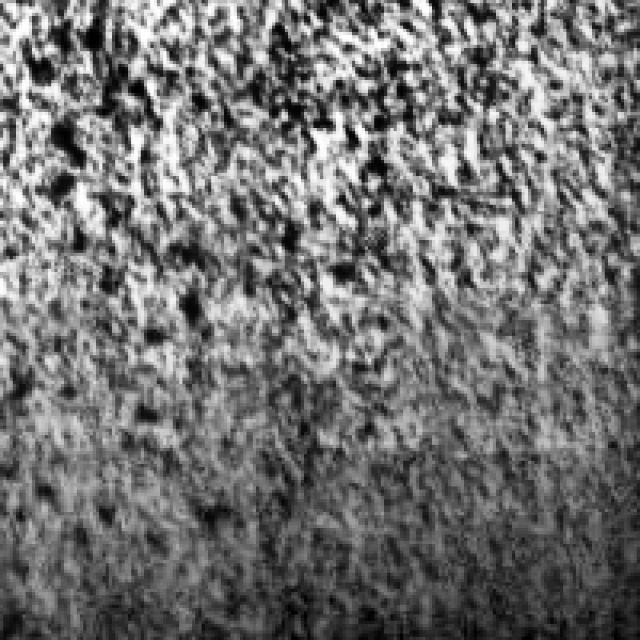Rolled_in_Scale: (0, 0, 624, 474)
